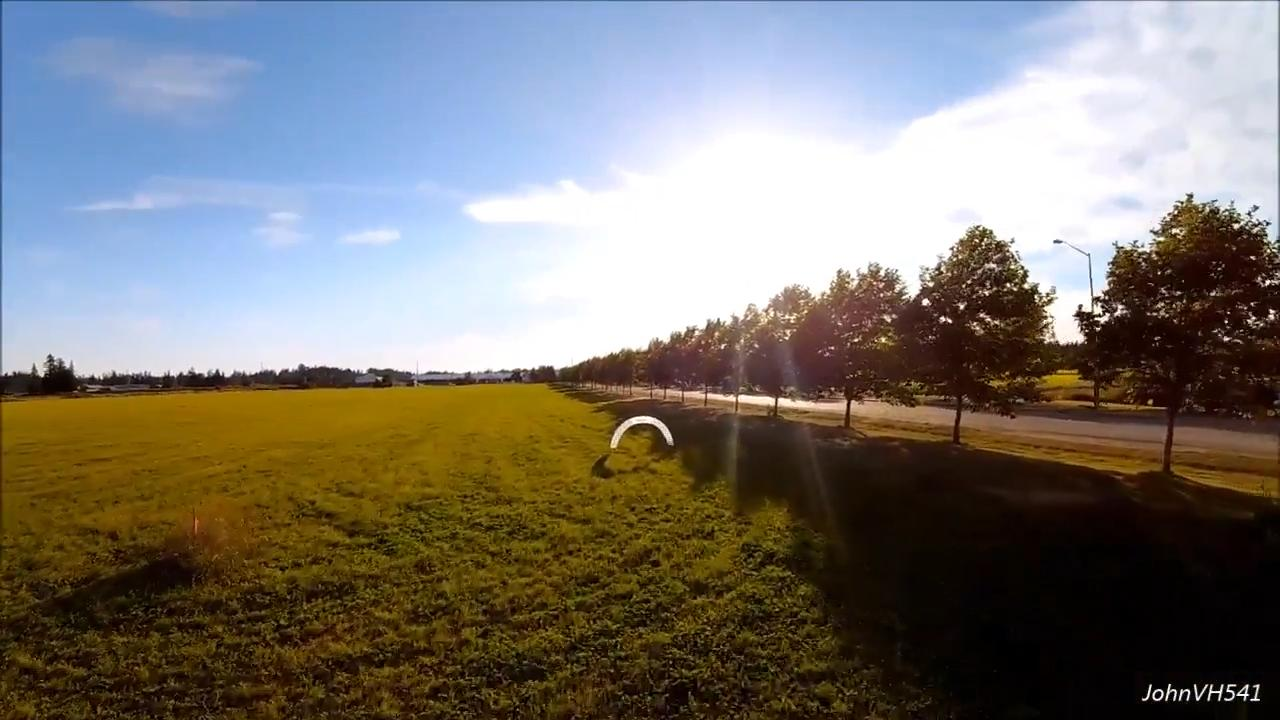gate: (607, 412, 676, 450)
